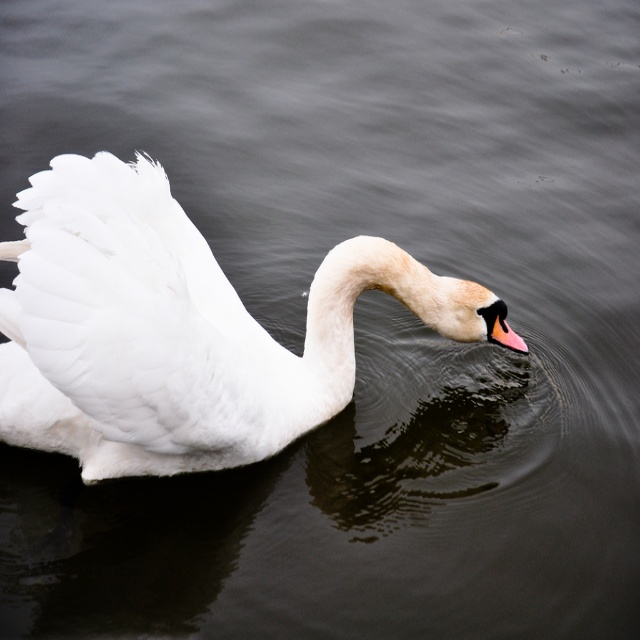Swan: (0, 149, 529, 485)
